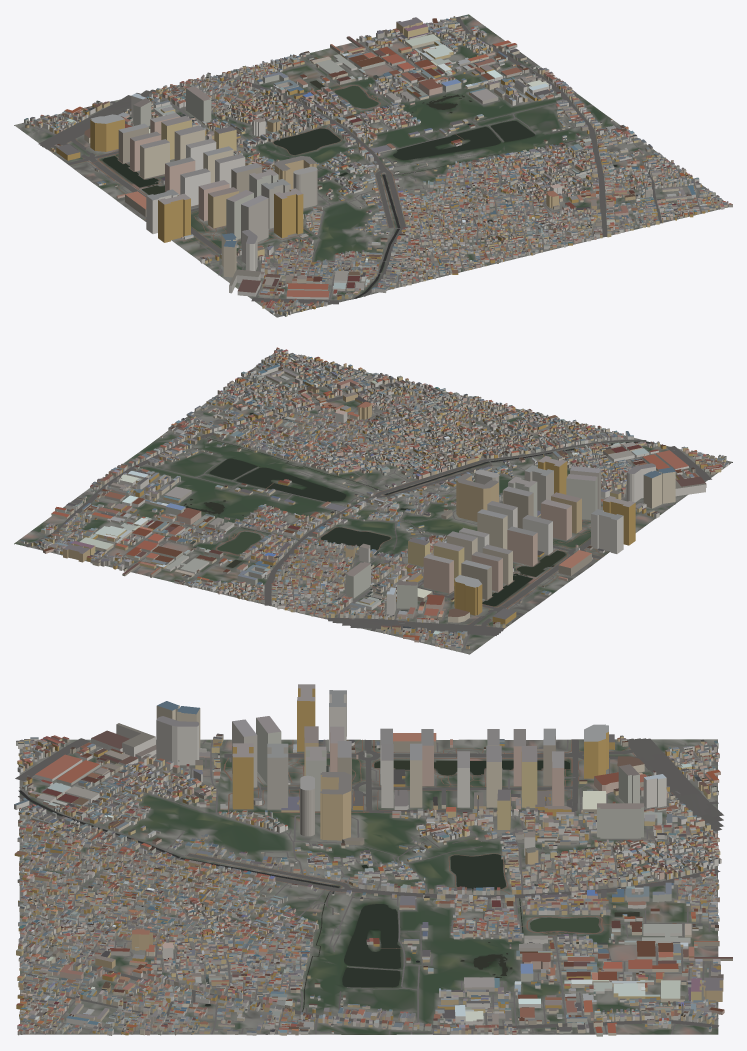
3 renders of one model, top to bottom at view 1: azimuth 30°, elevation 25°; view 2: azimuth 150°, elevation 25°; view 3: azimuth 270°, elevation 25°, orthographic. The views are drawn at different scales.
Parts seen in each view (by area): view 1: buildings, ground, roads, water; view 2: buildings, ground, roads, water; view 3: buildings, ground, roads, water.
Part boxes in pixels (box(x1,y1,x2,y2)): buildings: box(24, 15, 732, 316); ground: box(14, 14, 728, 317); roads: box(20, 17, 728, 316); water: box(102, 80, 617, 298); buildings: box(20, 347, 728, 651); ground: box(14, 354, 732, 654); roads: box(24, 353, 731, 652); water: box(184, 413, 650, 605); buildings: box(14, 684, 732, 1036); ground: box(19, 739, 718, 1034); roads: box(15, 738, 723, 1034); water: box(18, 740, 639, 1011).
Bounding box in the file's own units: 1442 × 120 × 1443.
